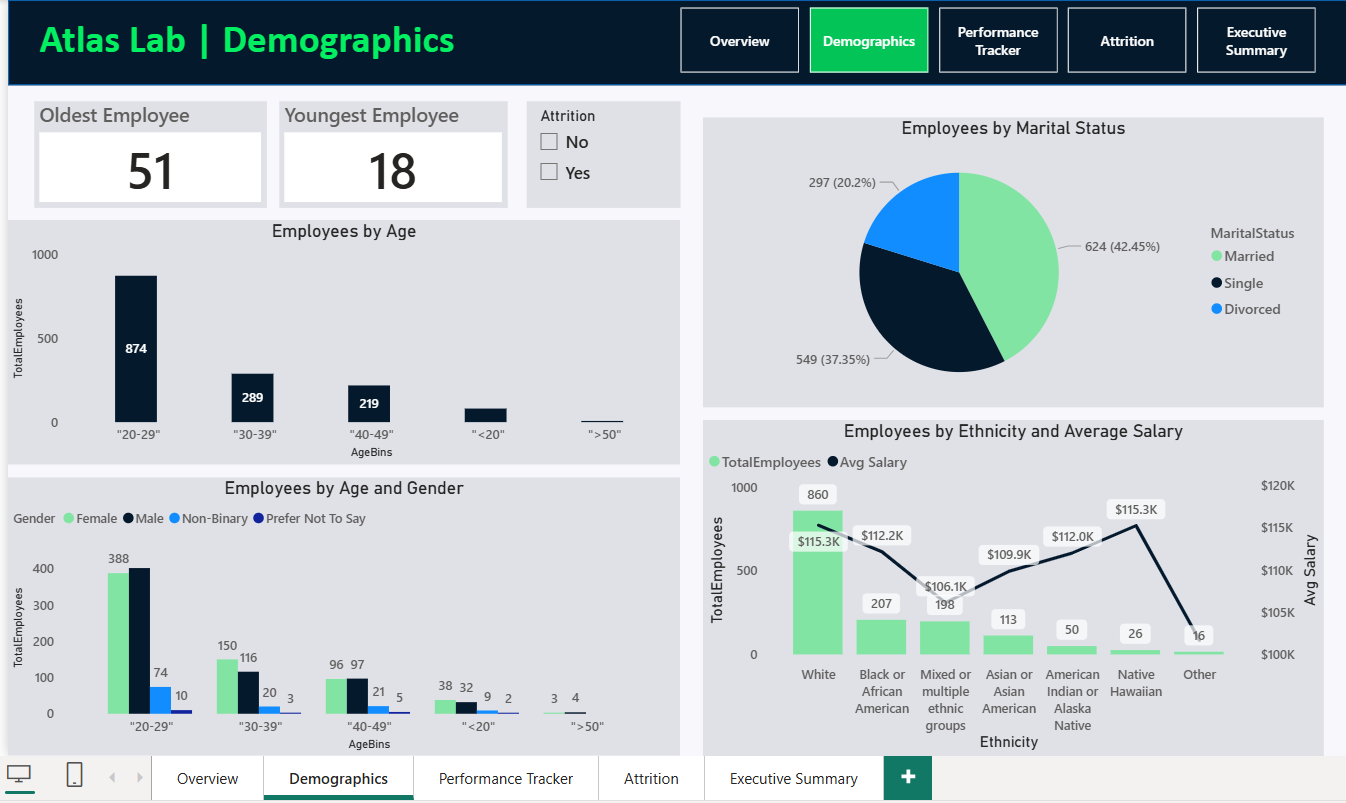

What the dashboard file says about the page in this screenshot:
{"tool":"powerbi","page":{"name":"Demographics","canvas":[1280,720],"ordinal":1},"visuals":[{"type":"cardVisual","title":"Oldest Employee","fields":{"Data":["Max(Dim_Employee.Age)"]},"box":[25,96.2,221.2,101.2],"z":0},{"type":"cardVisual","title":"Youngest Employee","fields":{"Data":["Min(Dim_Employee.Age)"]},"box":[258.8,96.2,217.5,101.2],"z":1000},{"type":"ribbonChart","title":"Employees by Age","fields":{"Category":["Dim_Employee.AgeBins"],"Y":["_Measures.TotalEmployees"]},"box":[0,210,640,232.5],"z":2000},{"type":"clusteredColumnChart","title":"Employees by Age and Gender","fields":{"Category":["Dim_Employee.AgeBins"],"Y":["_Measures.TotalEmployees"],"Series":["Dim_Employee.Gender"]},"box":[0,455,640,265],"z":3000},{"type":"slicer","fields":{"Values":["Dim_Employee.Attrition"]},"box":[493.8,96.2,146.2,101.2],"z":4000},{"type":"pieChart","title":"Employees by Marital Status","fields":{"Category":["Dim_Employee.MaritalStatus"],"Y":["_Measures.TotalEmployees"]},"box":[662.5,112.5,591.2,276.2],"z":5000},{"type":"lineStackedColumnComboChart","title":"Employees by Ethnicity and Average Salary","fields":{"Y":["_Measures.TotalEmployees"],"Category":["Dim_Employee.Ethnicity"],"Y2":["_Measures.Avg Salary"]},"box":[662.5,400,591.2,320],"z":6000},{"type":"shape","box":[0,0,1280,81.2],"z":7000},{"type":"textbox","box":[25,10,430,62.5],"z":8000},{"type":"pageNavigator","box":[640,7.5,606.2,62.5],"z":9000}]}

Visuals, with their boxes on the page's 1280x720 design canvas (x1, y1, x2, y2). These are canvas units, not pixel positions in the 1346x803 screenshot, which may show the page scaled, cropped or inside an application window:
"Oldest Employee" cardVisual: region(25, 96, 246, 197)
"Youngest Employee" cardVisual: region(259, 96, 476, 197)
"Employees by Age" ribbonChart: region(0, 210, 640, 442)
"Employees by Age and Gender" clusteredColumnChart: region(0, 455, 640, 720)
slicer - Dim_Employee.Attrition: region(494, 96, 640, 197)
"Employees by Marital Status" pieChart: region(662, 112, 1254, 389)
"Employees by Ethnicity and Average Salary" lineStackedColumnComboChart: region(662, 400, 1254, 720)
shape: region(0, 0, 1280, 81)
textbox: region(25, 10, 455, 72)
pageNavigator: region(640, 8, 1246, 70)
